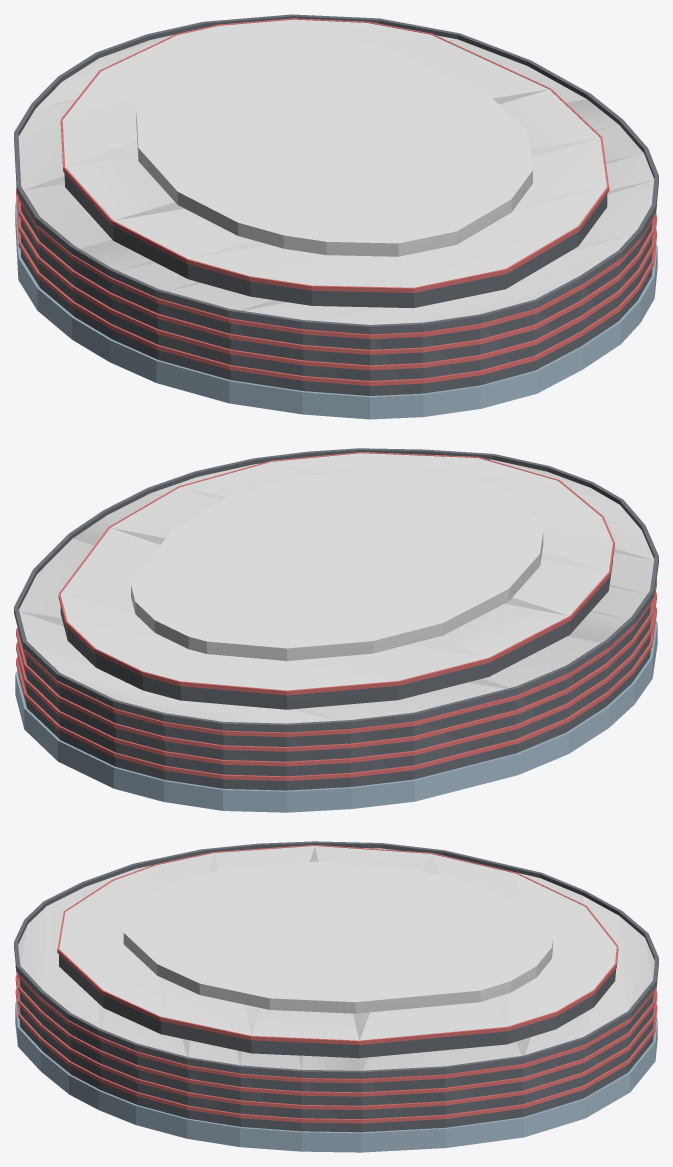
Rendered from coca_cola_arena.glb.
The picture shows the model from 3 angles, top to bottom: view 1: azimuth 30°, elevation 25°; view 2: azimuth 150°, elevation 25°; view 3: azimuth 270°, elevation 25°; orthographic projection. The views are drawn at different scales.
Visible parts, largest first — view 1: coca_cola_arena; view 2: coca_cola_arena; view 3: coca_cola_arena.
Part boxes in pixels (x1=…): coca_cola_arena: x1=14, y1=14, x2=658, y2=419; coca_cola_arena: x1=14, y1=448, x2=658, y2=812; coca_cola_arena: x1=14, y1=841, x2=658, y2=1152.
Size of the model in its own units: 129 by 27.5 by 152.
